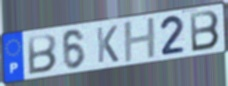2: (158, 13, 188, 58)
6: (61, 28, 88, 71)
B: (188, 9, 221, 54), (27, 33, 58, 76)
H: (122, 15, 159, 65)
K: (95, 24, 120, 65)
